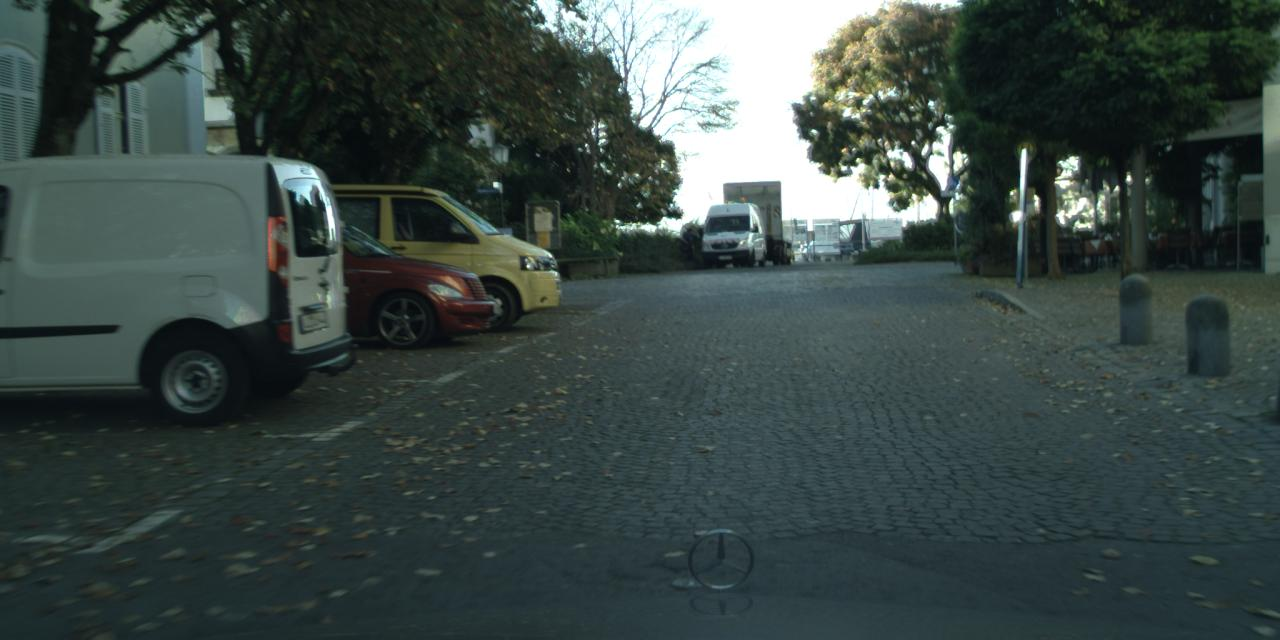ped: (680, 228, 696, 268)
